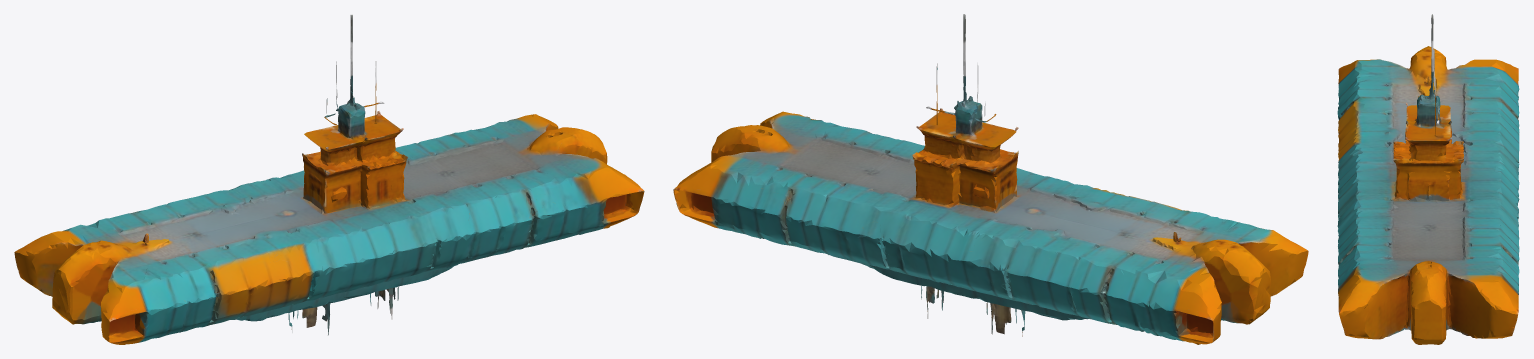
File: hauler_cruiser.glb
3 renders of one model, left to right at view 1: azimuth 30°, elevation 25°; view 2: azimuth 150°, elevation 25°; view 3: azimuth 270°, elevation 25°, orthographic. The views are drawn at different scales.
Parts seen in each view (by area): view 1: hauler_cruiser; view 2: hauler_cruiser; view 3: hauler_cruiser.
Boxes of the visible parts, box(x1,y1,x2,y2) form: hauler_cruiser: box(14, 14, 644, 344); hauler_cruiser: box(673, 14, 1308, 344); hauler_cruiser: box(1337, 14, 1519, 344).
Bounding box in the file's own units: 1.89 × 1.02 × 0.5844.
Materials: 1 (1 with a texture image).
